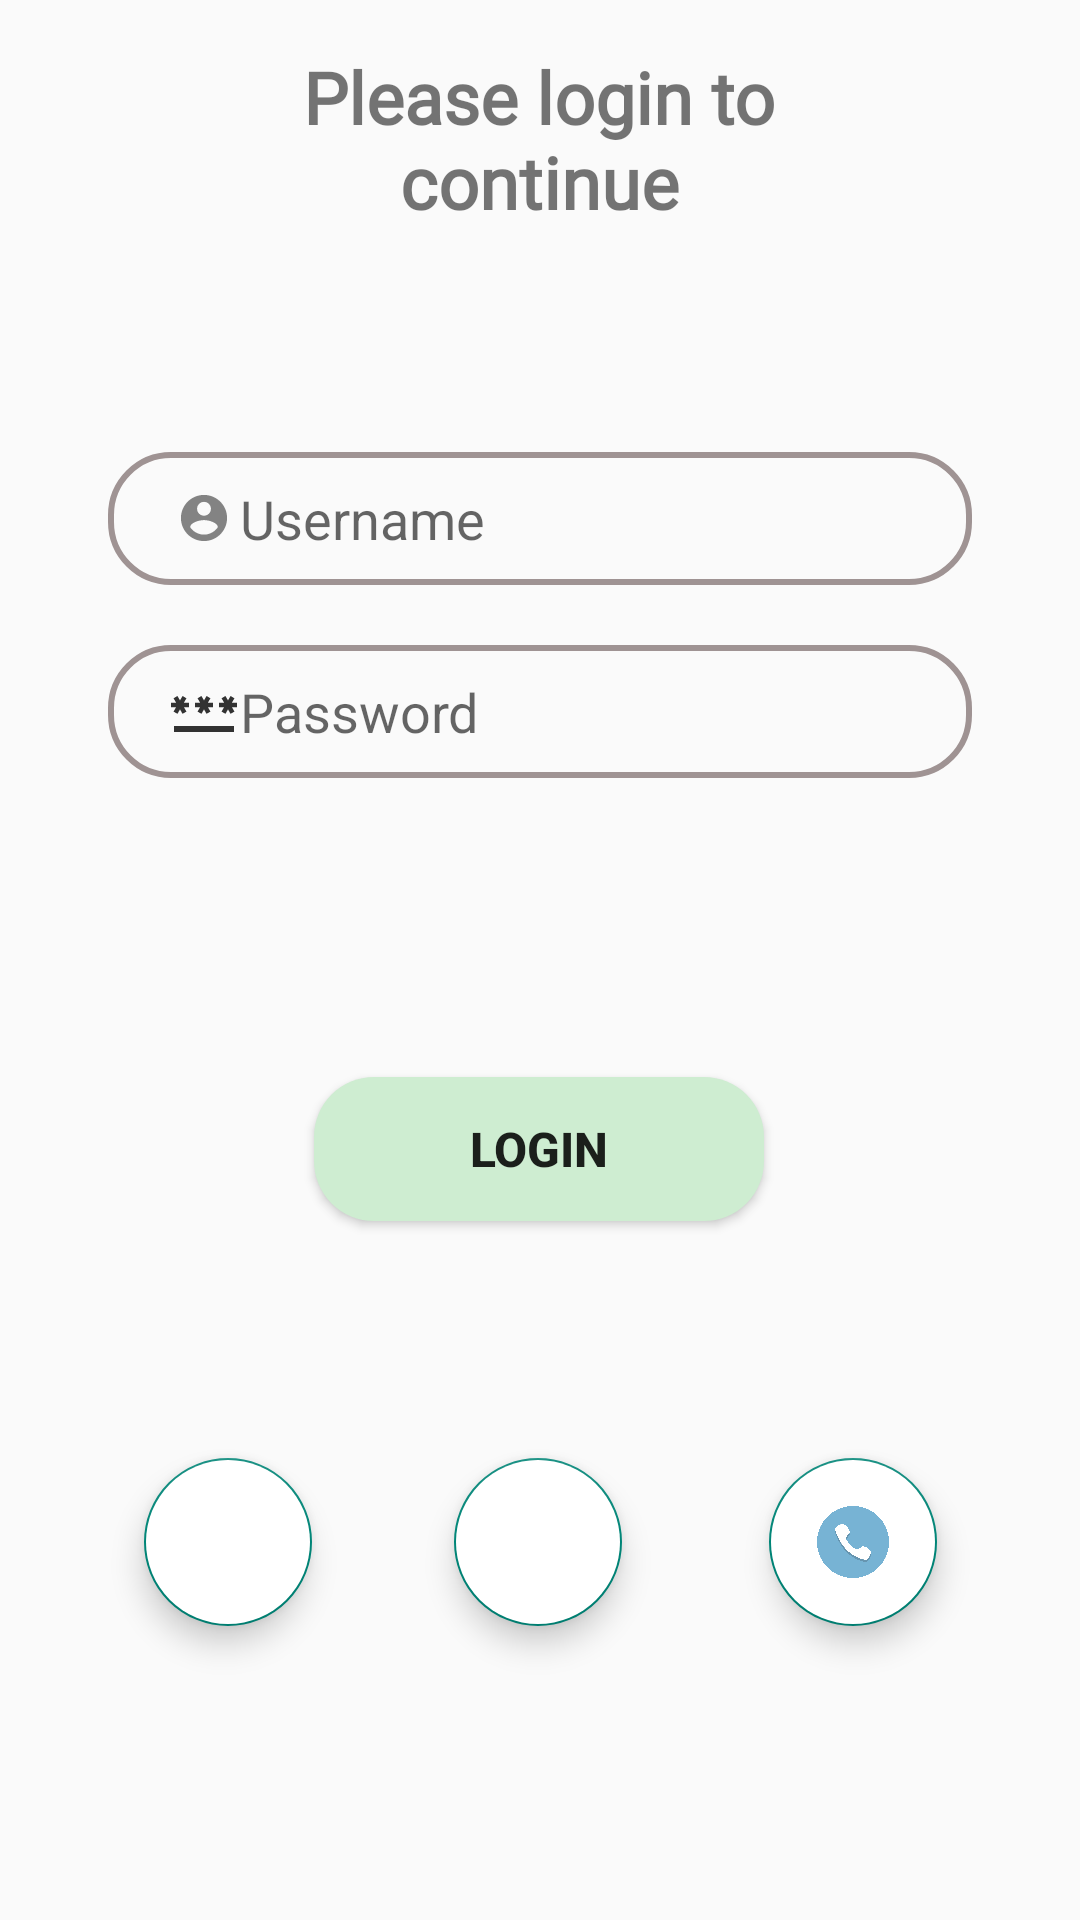

Screen size 1080w x 1920h. Icon name, then its box in pixels as bbox=(x1, y1, x2, y2):
phone fab: bbox=(817, 1506, 889, 1578)
